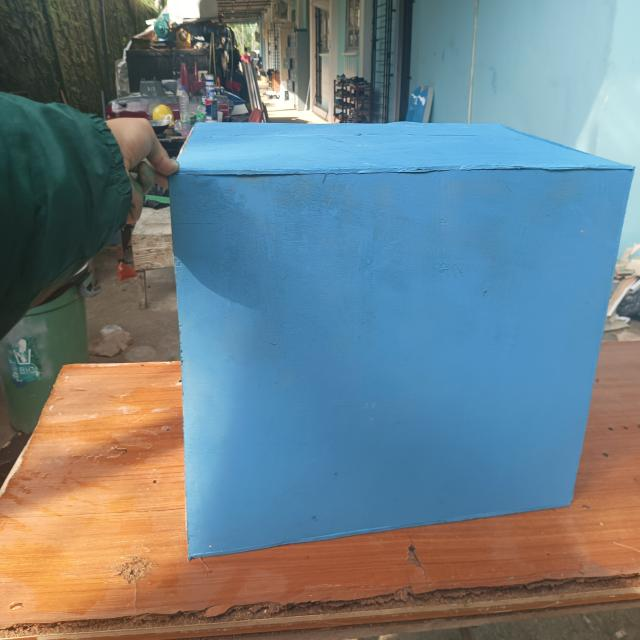blue_box: (166, 114, 628, 527)
